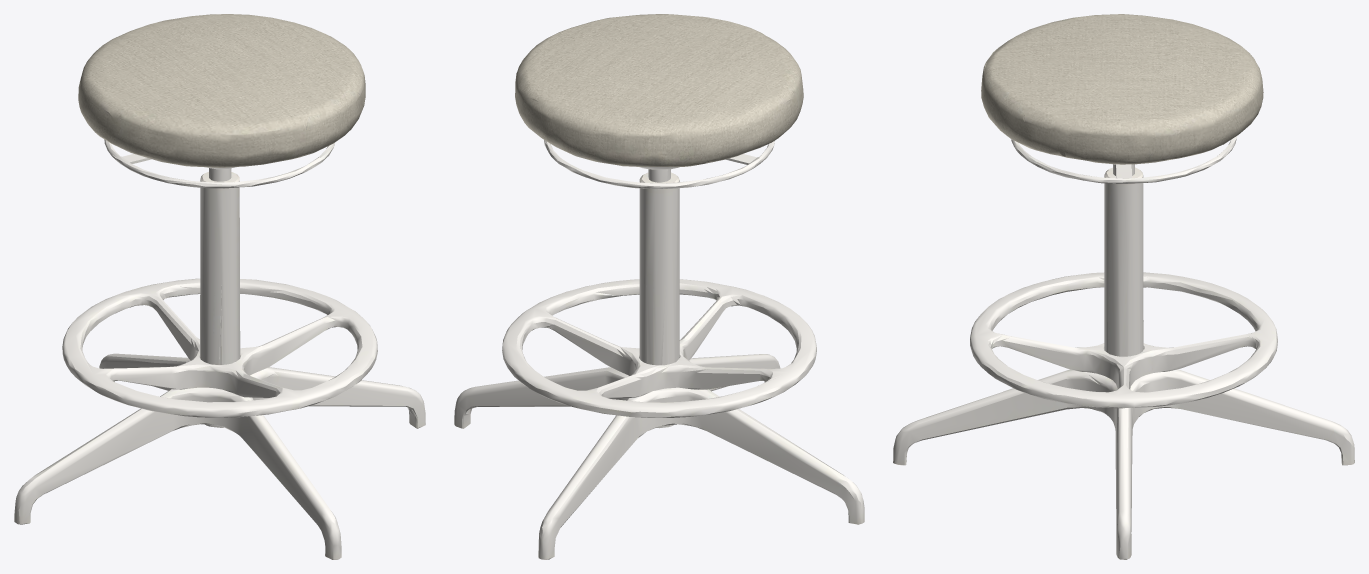
File: 16 - LIDKULLEN - 椅凳, Gunnared 米色 IKEA 線上購物.glb
3 renders of one model, left to right at view 1: azimuth 30°, elevation 25°; view 2: azimuth 150°, elevation 25°; view 3: azimuth 270°, elevation 25°, orthographic. The views are drawn at different scales.
Visible parts, largest first — view 1: ProcessedMeshNode; view 2: ProcessedMeshNode; view 3: ProcessedMeshNode.
Boxes of the visible parts, x1,y1,x2,y2 form: ProcessedMeshNode: (14,14,425,559); ProcessedMeshNode: (454,14,864,559); ProcessedMeshNode: (893,14,1354,559).
Size of the model in its own units: 0.5996 by 0.5755 by 0.5993.
1 material, 1 textured.
